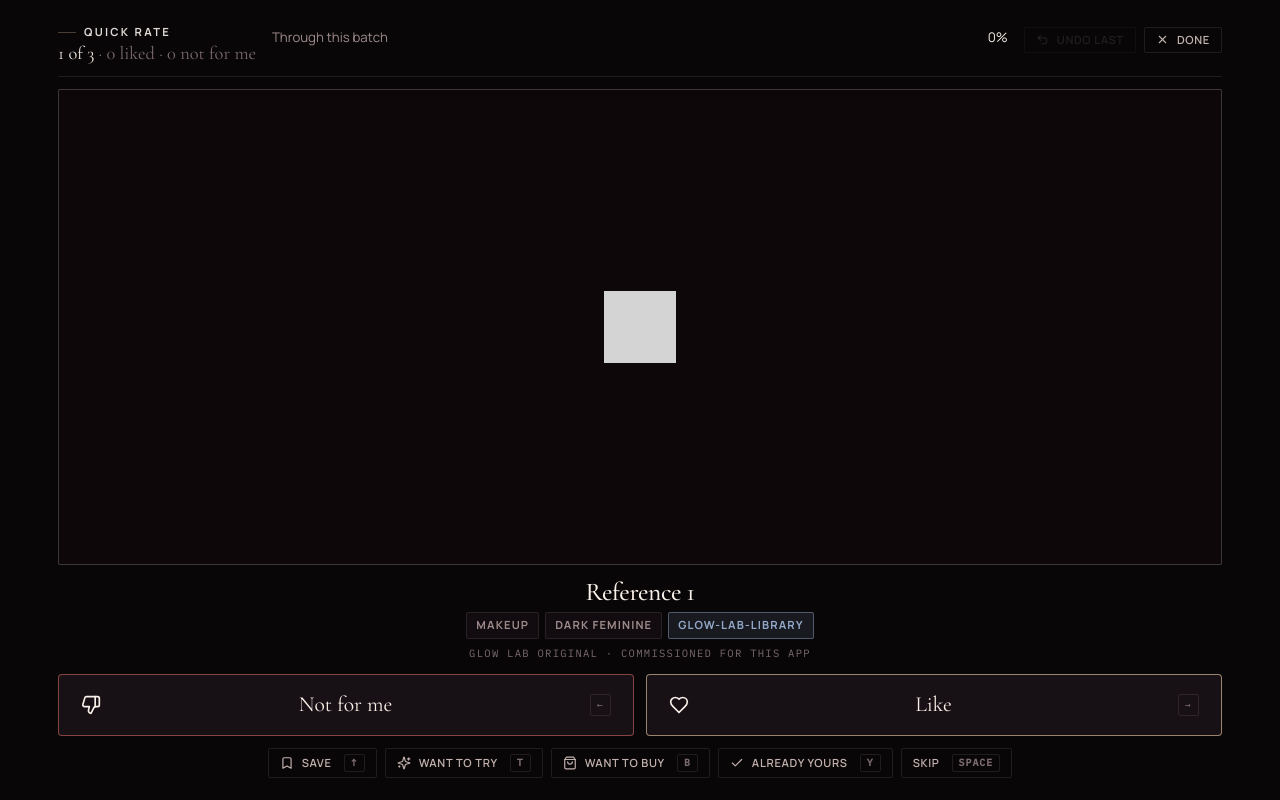
Test: QuickRate › undo hands back the row id of the last tap and steps back one card
Click the button "Like →": click(934, 705) [646,674,1222,736]
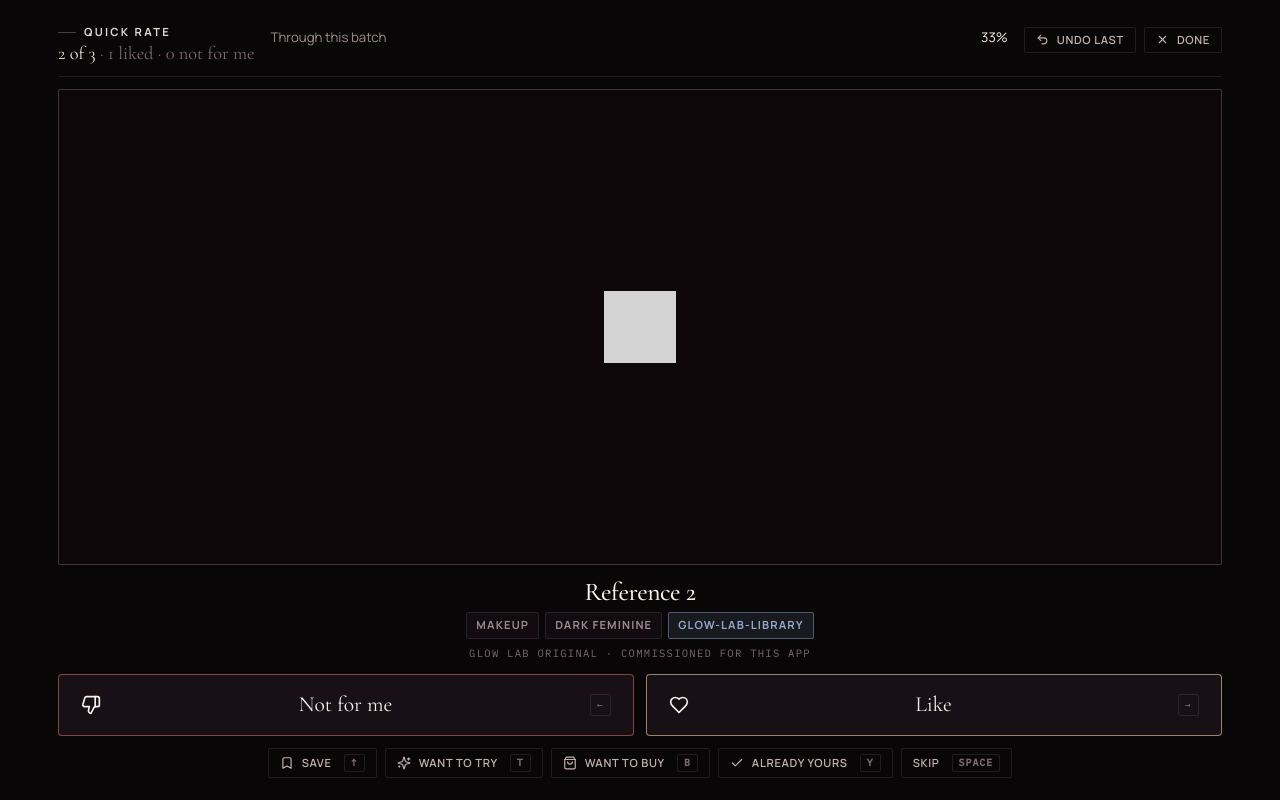
Click the button "Undo last": click(1080, 40) [1024,27,1136,53]
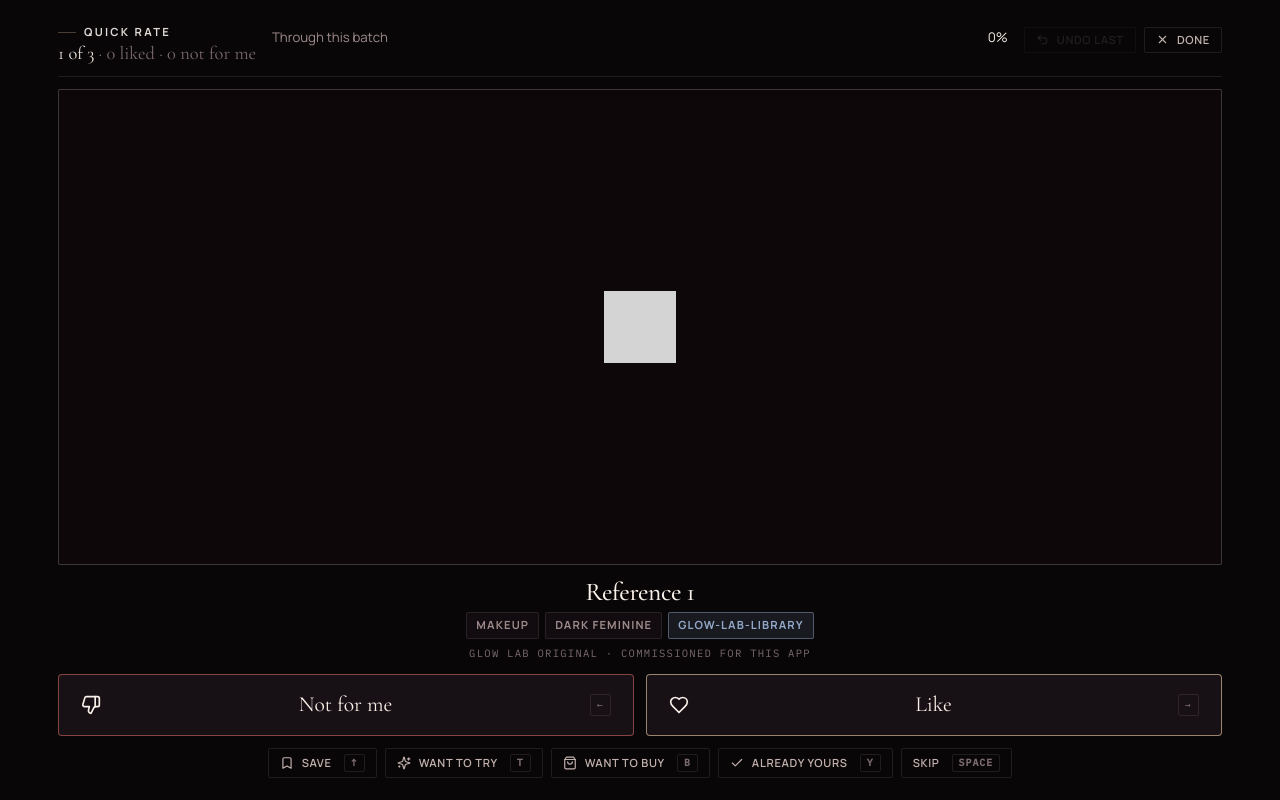
Now the text "1 of 3" is shown, box [58,42,94,64]
Now the text "0 liked" is shown, box [94,42,256,64]
